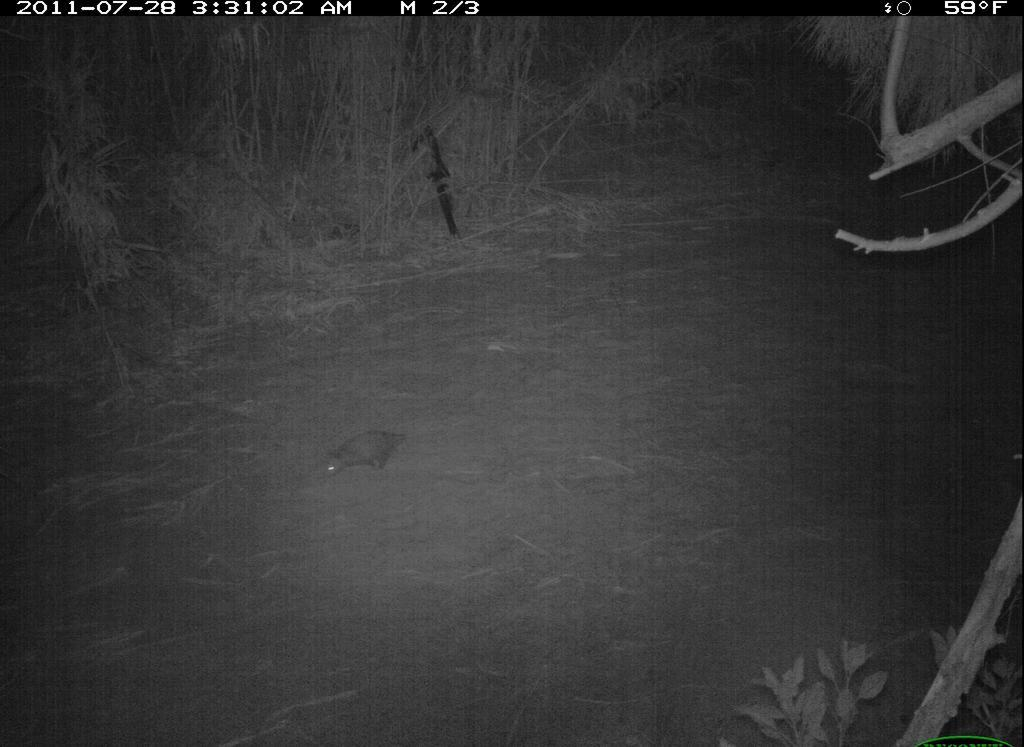opossum: (318, 423, 414, 486)
